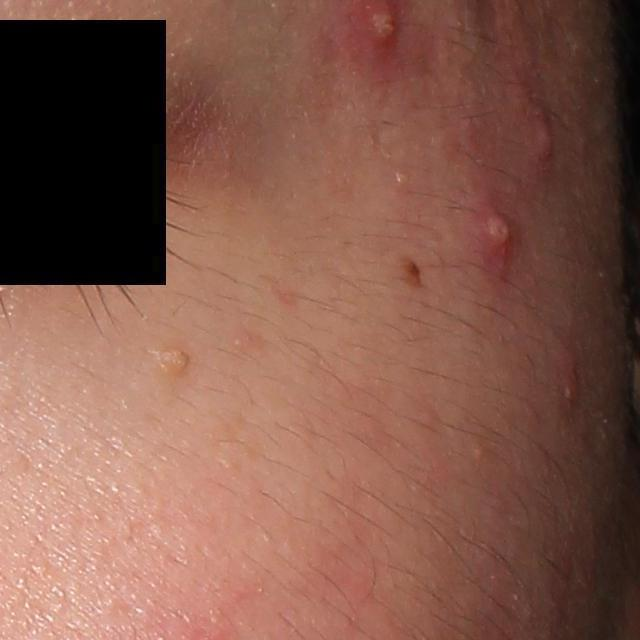nevus: (399, 253, 424, 290)
other: (151, 343, 196, 383)
papule: (524, 104, 564, 181), (548, 352, 587, 423)
pustule: (461, 191, 520, 290)
